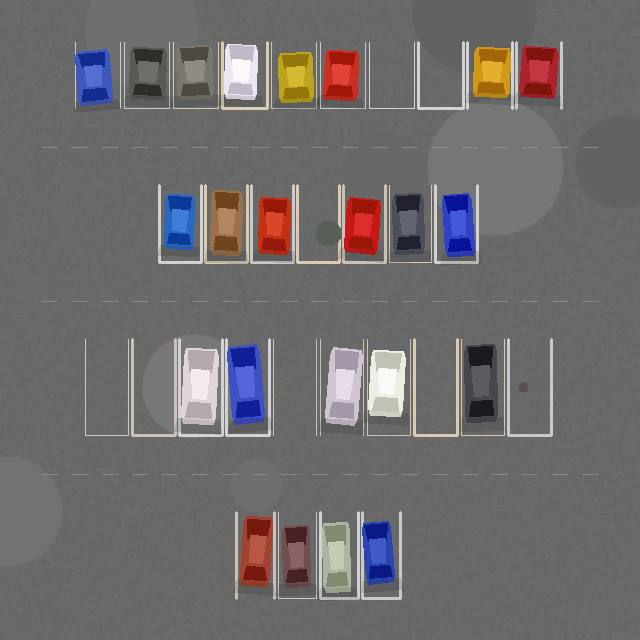space-empty: (85, 339, 128, 435), (132, 339, 175, 435), (273, 339, 316, 435), (414, 339, 457, 435), (508, 339, 551, 435), (297, 185, 339, 262), (369, 42, 414, 108), (418, 42, 463, 108)
space-occupied: (179, 339, 222, 435), (226, 339, 269, 435), (320, 339, 363, 435), (367, 339, 410, 435), (461, 339, 504, 435), (236, 512, 274, 598), (278, 512, 316, 598), (320, 512, 358, 598), (362, 512, 400, 598), (159, 185, 201, 262), (205, 185, 247, 262), (251, 185, 293, 262), (343, 185, 385, 262), (389, 185, 431, 262), (435, 185, 477, 262), (75, 42, 120, 108), (124, 42, 169, 108), (173, 42, 218, 108), (222, 42, 267, 108), (271, 42, 316, 108), (320, 42, 365, 108), (467, 42, 512, 108), (516, 42, 561, 108)
